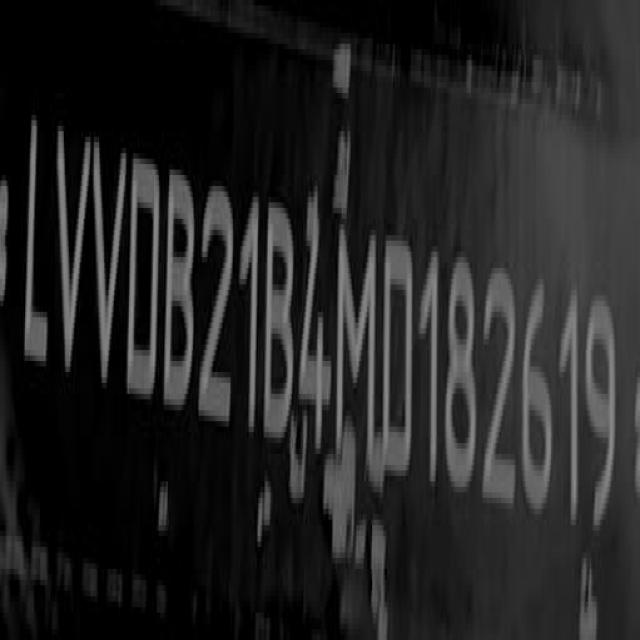1: (419, 243, 441, 490), (238, 192, 259, 445), (559, 286, 580, 532)
2: (484, 262, 520, 518), (201, 182, 237, 438)
4: (300, 204, 334, 472)
6: (520, 275, 556, 529)
8: (446, 252, 480, 501)
9: (589, 294, 621, 537)
B: (264, 195, 297, 455), (165, 168, 198, 424)
D: (380, 234, 420, 493), (127, 151, 162, 414)
L: (22, 111, 53, 376)
M: (337, 216, 380, 483)
V: (52, 115, 90, 390), (93, 128, 129, 402)
